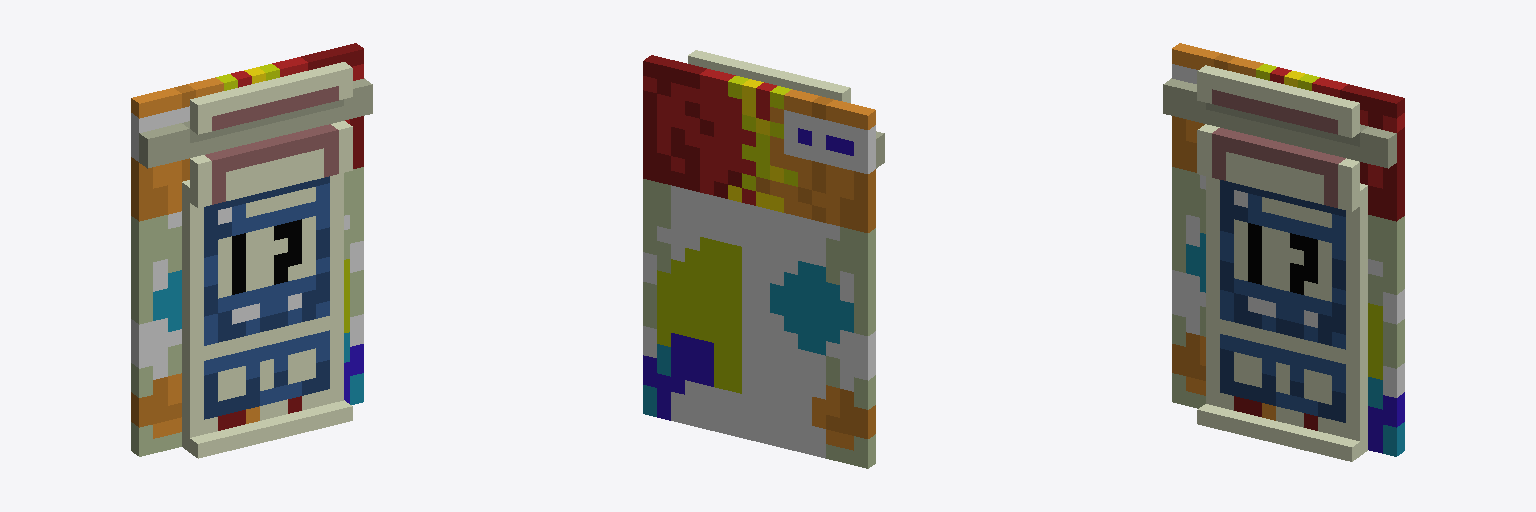
3 views of the same model, side by side, from view 1: azimuth 30°, elevation 25°; view 2: azimuth 150°, elevation 25°; view 3: azimuth 330°, elevation 25° (orthographic).
Parts seen in each view (by area): view 1: object 1; view 2: object 1; view 3: object 1.
Part boxes in pixels (bbox=[...]): object 1: bbox=[131, 43, 372, 458]; object 1: bbox=[643, 50, 884, 468]; object 1: bbox=[1163, 43, 1404, 461].
Size of the model in its own units: 1.6 by 2.4 by 0.3.
Materials: 1 (1 with a texture image).